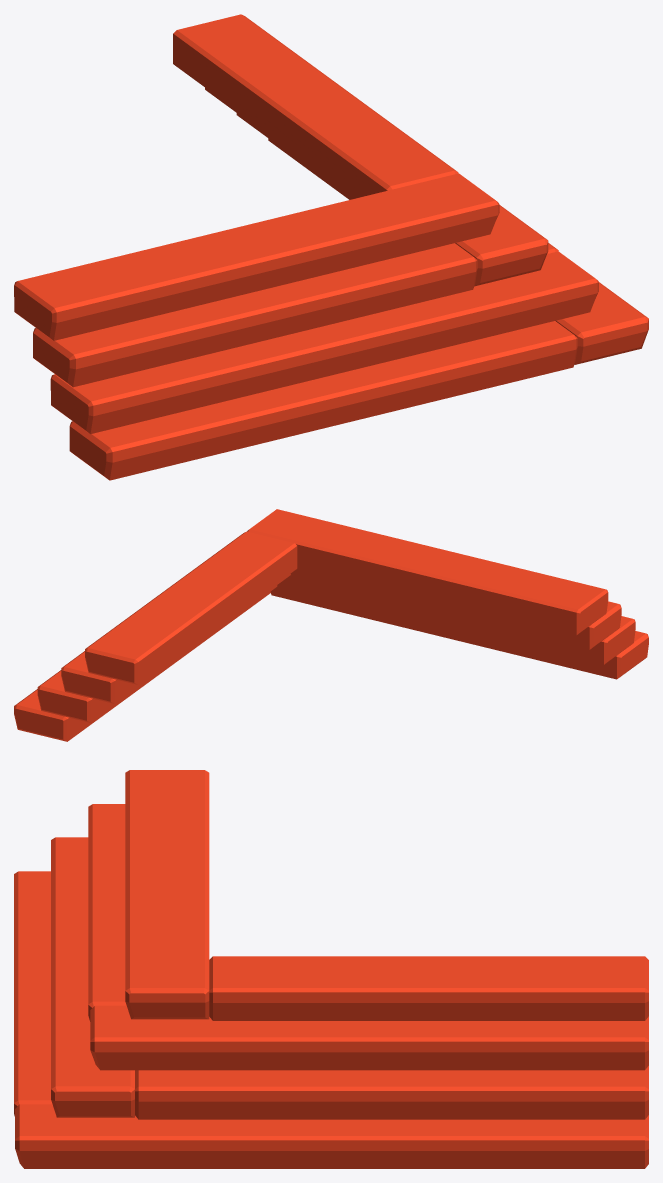
The model's file is SM_Stairs_Corner_Outer_City.fbx.
3 renders of one model, top to bottom at view 1: azimuth 30°, elevation 25°; view 2: azimuth 150°, elevation 25°; view 3: azimuth 270°, elevation 25°, orthographic. The views are drawn at different scales.
Parts seen in each view (by area): view 1: SM_Stairs_Corner_Outer_City; view 2: SM_Stairs_Corner_Outer_City; view 3: SM_Stairs_Corner_Outer_City.
Boxes of the visible parts, <box> form: SM_Stairs_Corner_Outer_City: <box>14,14,648,480</box>; SM_Stairs_Corner_Outer_City: <box>14,509,648,741</box>; SM_Stairs_Corner_Outer_City: <box>14,770,648,1168</box>.
Size of the model in its own units: 4.28 by 1 by 4.28.
